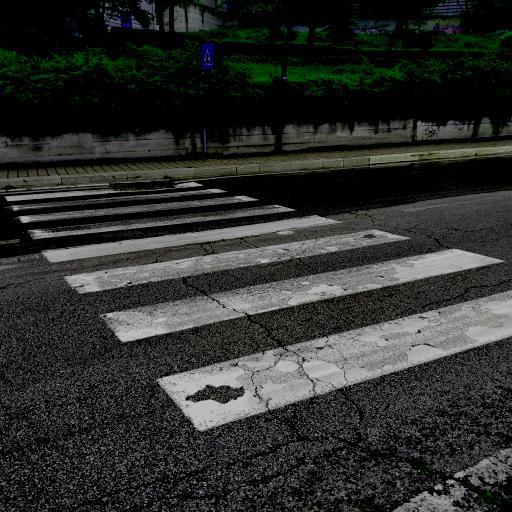crosswalk: (61, 225, 511, 349)
